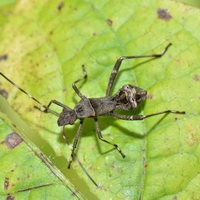insect: (0, 43, 184, 168)
